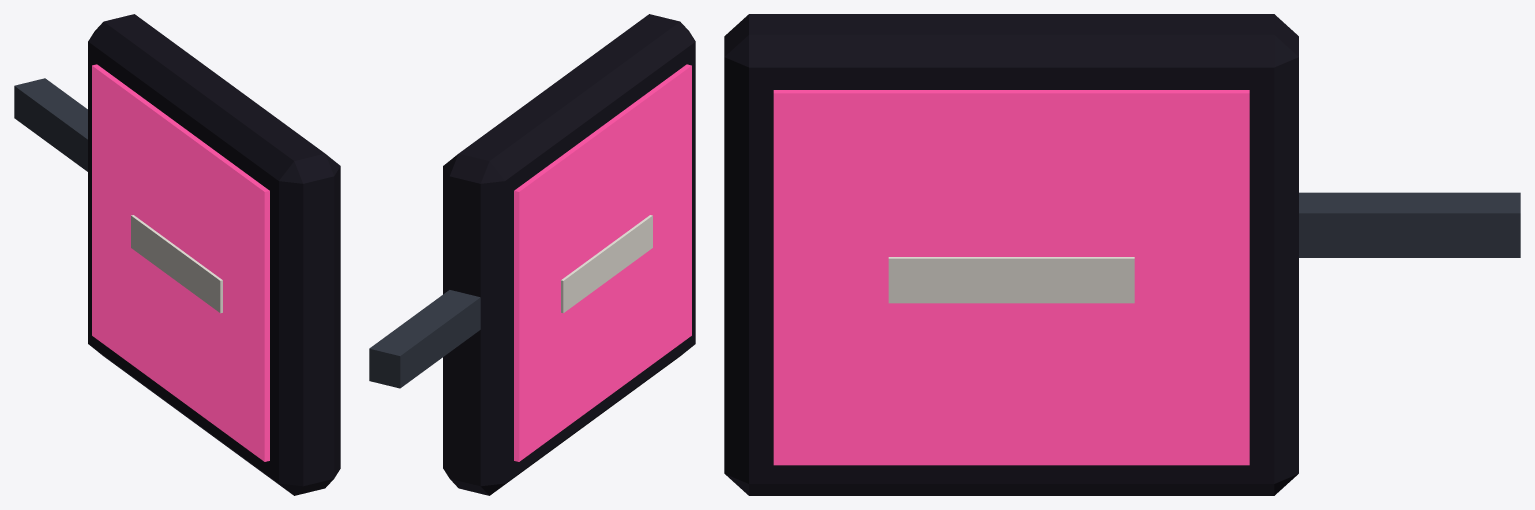
File: sign_box.glb
3 renders of one model, left to right at view 1: azimuth 30°, elevation 25°; view 2: azimuth 150°, elevation 25°; view 3: azimuth 270°, elevation 25°, orthographic. The views are drawn at different scales.
Visible parts, largest first — view 1: sign_box; view 2: sign_box; view 3: sign_box.
Part boxes in pixels (<box>): sign_box: <box>14,14,340,495</box>; sign_box: <box>369,14,695,495</box>; sign_box: <box>724,14,1520,495</box>.
Bounding box in the file's own units: 0.15 × 0.62 × 0.97.
2 materials, 2 textured.
